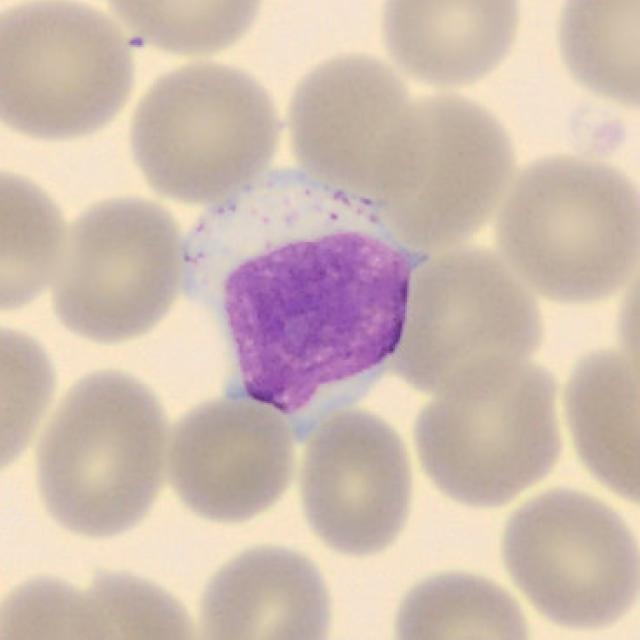Linfocito atipico: (186, 171, 428, 439)
